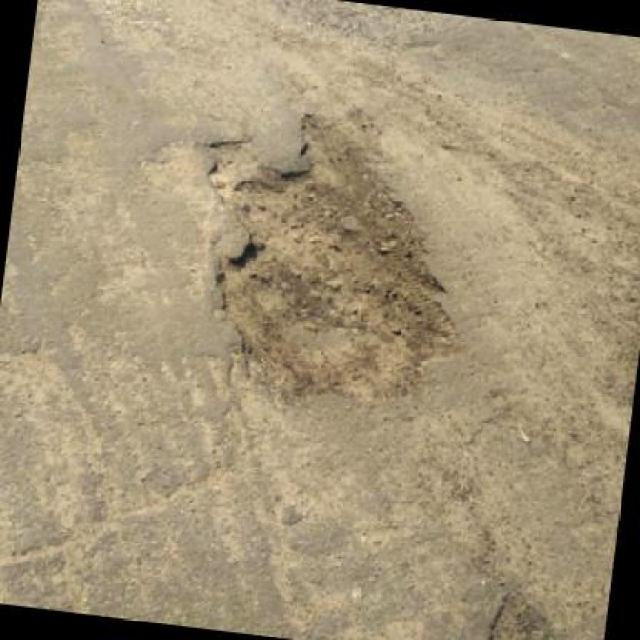pothole1: (172, 93, 493, 421), (472, 583, 590, 639)
